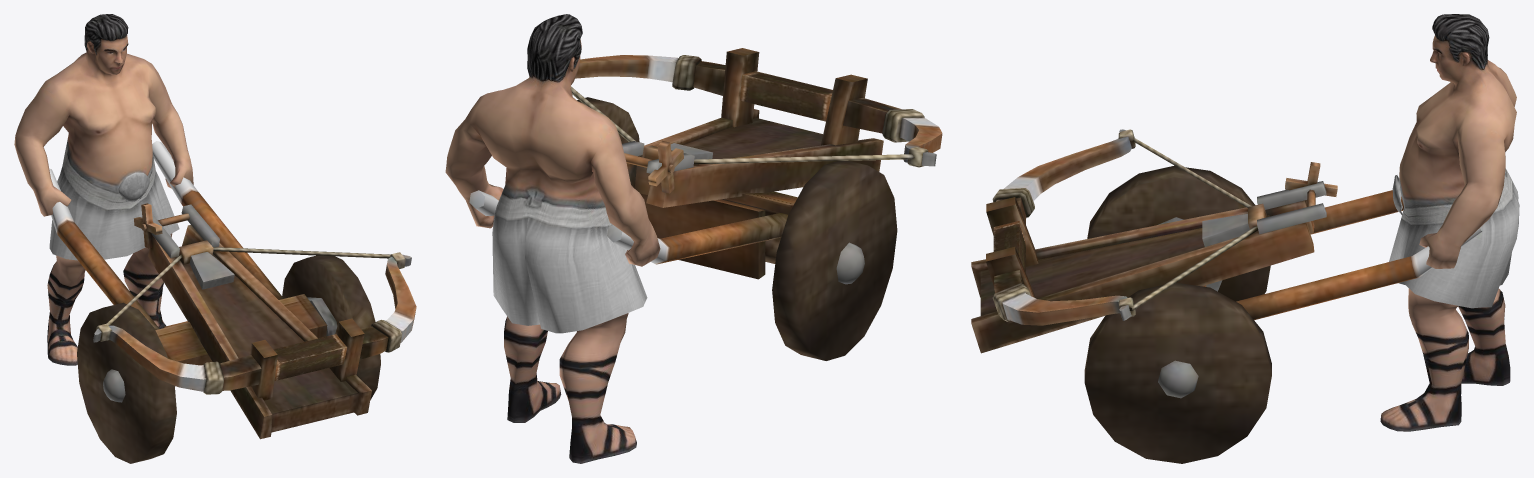
File: 23-cheiroballista.glb
3 renders of one model, left to right at view 1: azimuth 30°, elevation 25°; view 2: azimuth 150°, elevation 25°; view 3: azimuth 270°, elevation 25°, orthographic. The views are drawn at different scales.
Bounding box in the file's own units: 2.13 × 2.11 × 2.72.
2 materials, 2 textured.
